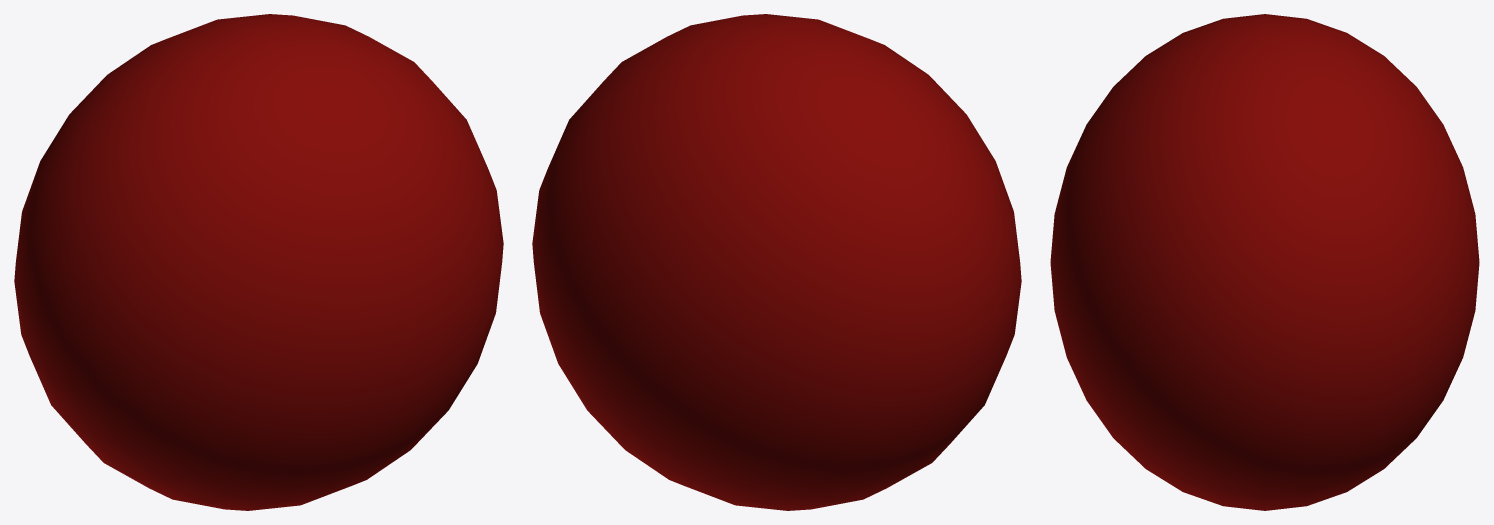
Rendered from tomato_plant_fruiting_1_fruit_0.obj.
3 renders of one model, left to right at view 1: azimuth 30°, elevation 25°; view 2: azimuth 150°, elevation 25°; view 3: azimuth 270°, elevation 25°, orthographic.
Size of the model in its own units: 0.0654 by 0.0654 by 0.0562.
